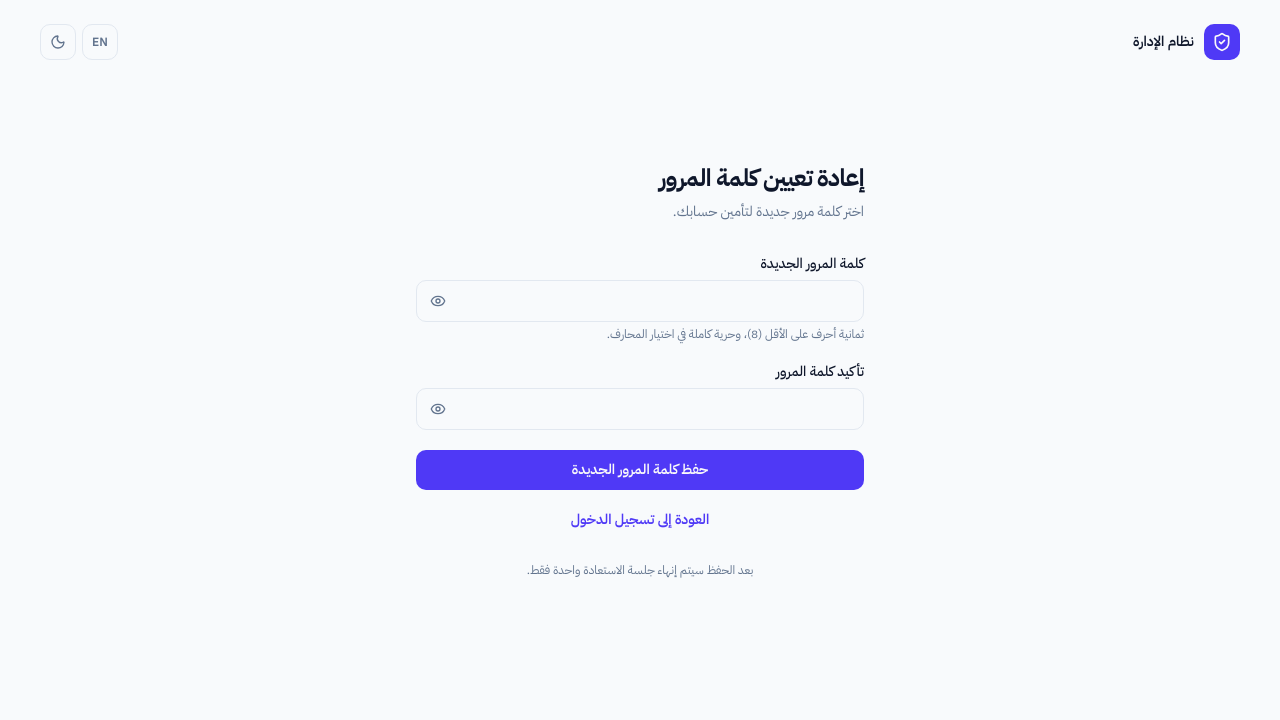
ResetPasswordPage › keeps the user on the page when the write is refused
Type "a-brand-new-pass" into the password field labelled "كلمة المرور الجديدة" at {"x": 640, "y": 301}, box x1=416 y1=280 x2=864 y2=322
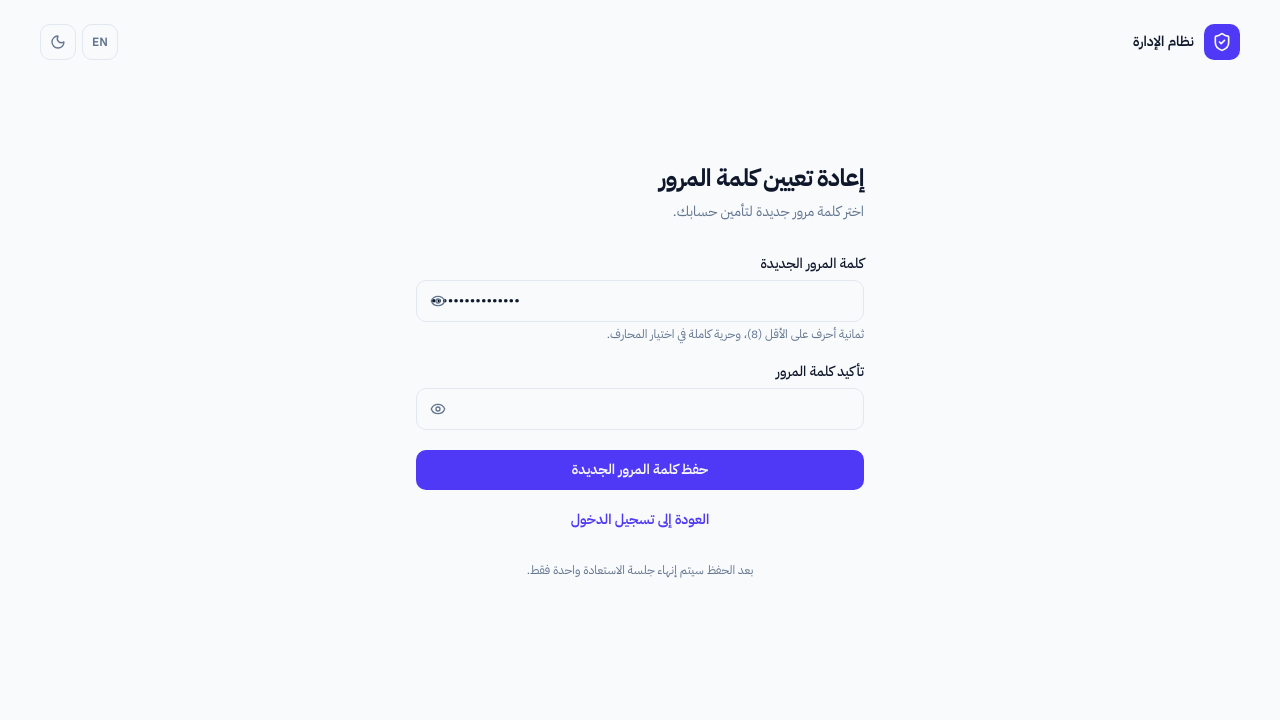
Type "a-brand-new-pass" into the password field labelled "تأكيد كلمة المرور" at {"x": 640, "y": 409}, box x1=416 y1=388 x2=864 y2=430
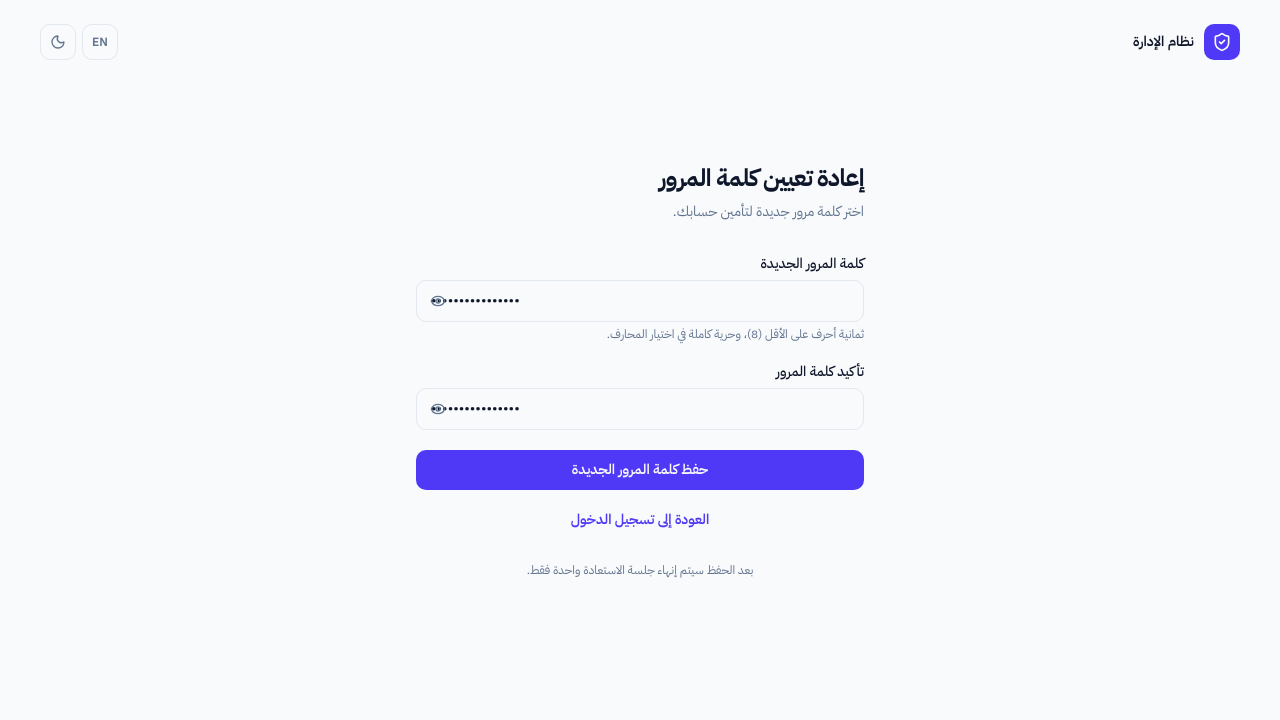
Click the button "حفظ كلمة المرور الجديدة" at {"x": 640, "y": 470}, box x1=416 y1=450 x2=864 y2=490
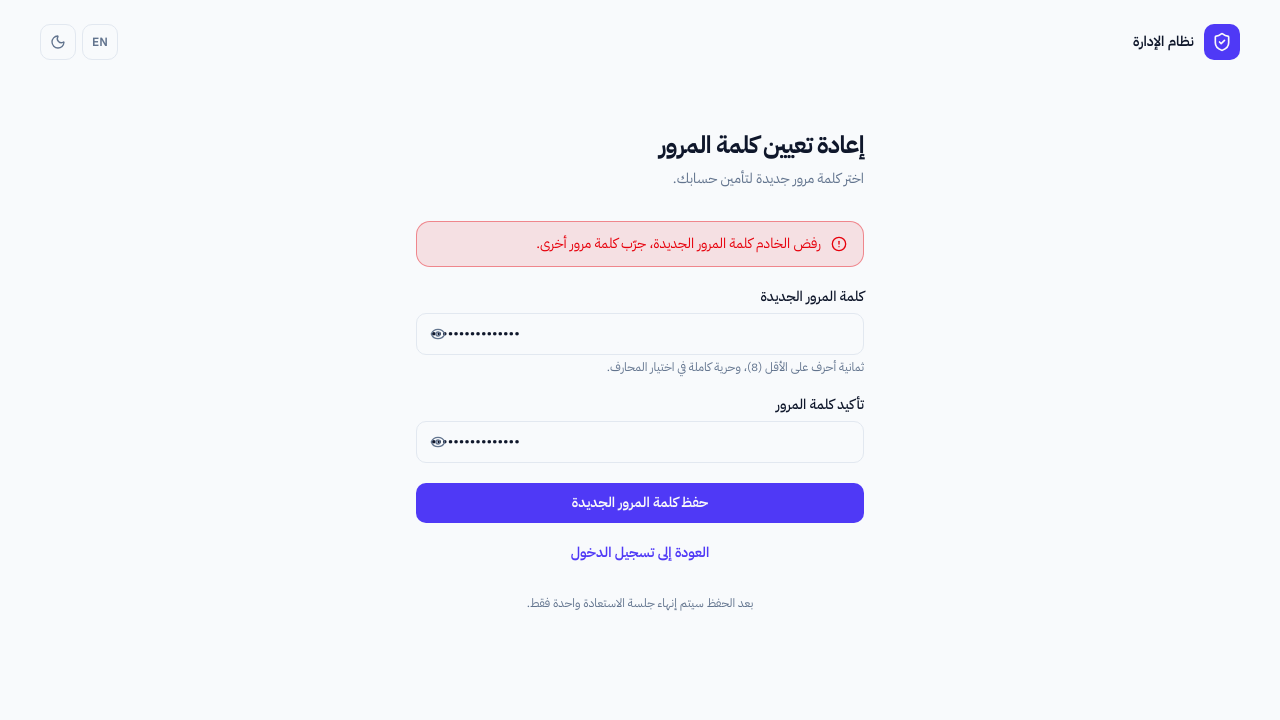
Now the text "رفض الخادم كلمة المرور الجديدة، جرّب كلمة مرور أخرى." is shown, box x1=536 y1=234 x2=821 y2=254
